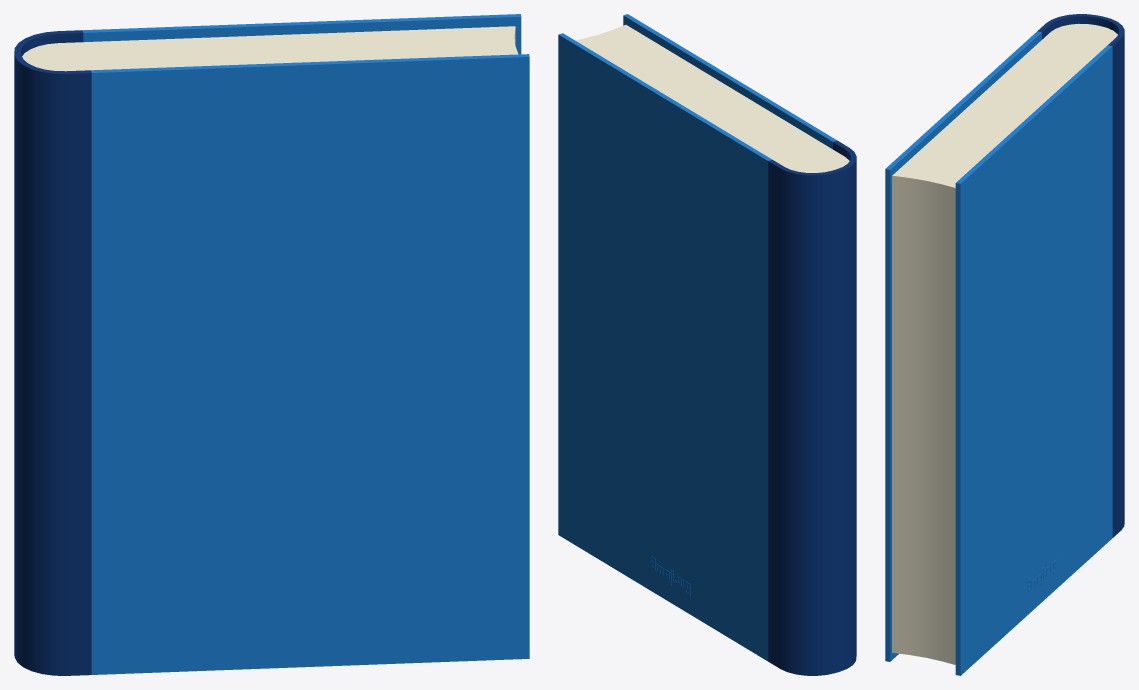
Rendered from blue_book.gltf.
The picture shows the model from 3 angles, left to right: view 1: azimuth 30°, elevation 25°; view 2: azimuth 150°, elevation 25°; view 3: azimuth 270°, elevation 25°; orthographic projection. The views are drawn at different scales.
Parts seen in each view (by area): view 1: Cube.948; view 2: Cube.948; view 3: Cube.948.
Boxes of the visible parts, x1,y1,x2,y2 form: Cube.948: [14, 14, 529, 675]; Cube.948: [558, 14, 856, 675]; Cube.948: [885, 14, 1124, 675].
Size of the model in its own units: 1.55 by 2.1 by 0.9263.
Materials: 1 (1 with a texture image).
